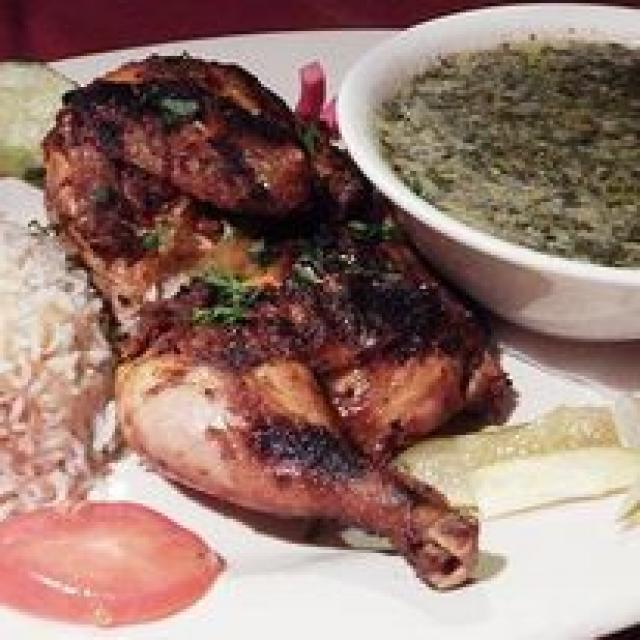Chicken Wings: (121, 345, 460, 572)
White Rice: (3, 171, 106, 494)
